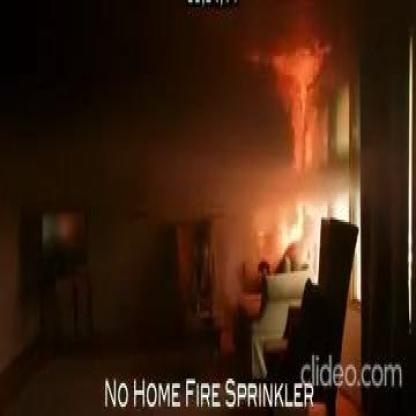fire: (262, 42, 328, 175), (279, 196, 305, 264)
